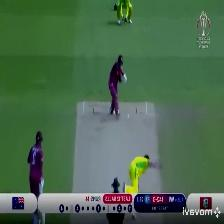ball: (122, 111, 131, 120)
batsman: (98, 53, 129, 122)
